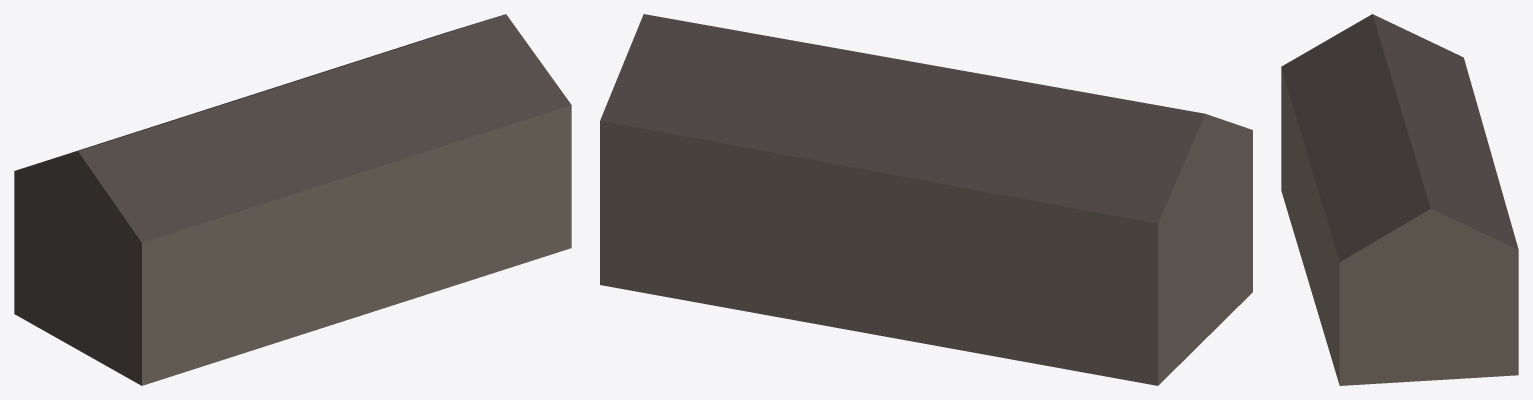
3 views of the same model, side by side, from view 1: azimuth 30°, elevation 25°; view 2: azimuth 150°, elevation 25°; view 3: azimuth 270°, elevation 25° (orthographic). The views are drawn at different scales.
Parts seen in each view (by area): view 1: HP-w442103692; view 2: HP-w442103692; view 3: HP-w442103692.
Part boxes in pixels (x1=…): HP-w442103692: x1=14, y1=14, x2=571, y2=385; HP-w442103692: x1=600, y1=14, x2=1252, y2=385; HP-w442103692: x1=1281, y1=14, x2=1518, y2=385.
Bounding box in the file's own units: 31.97 × 12.5 × 15.67.
